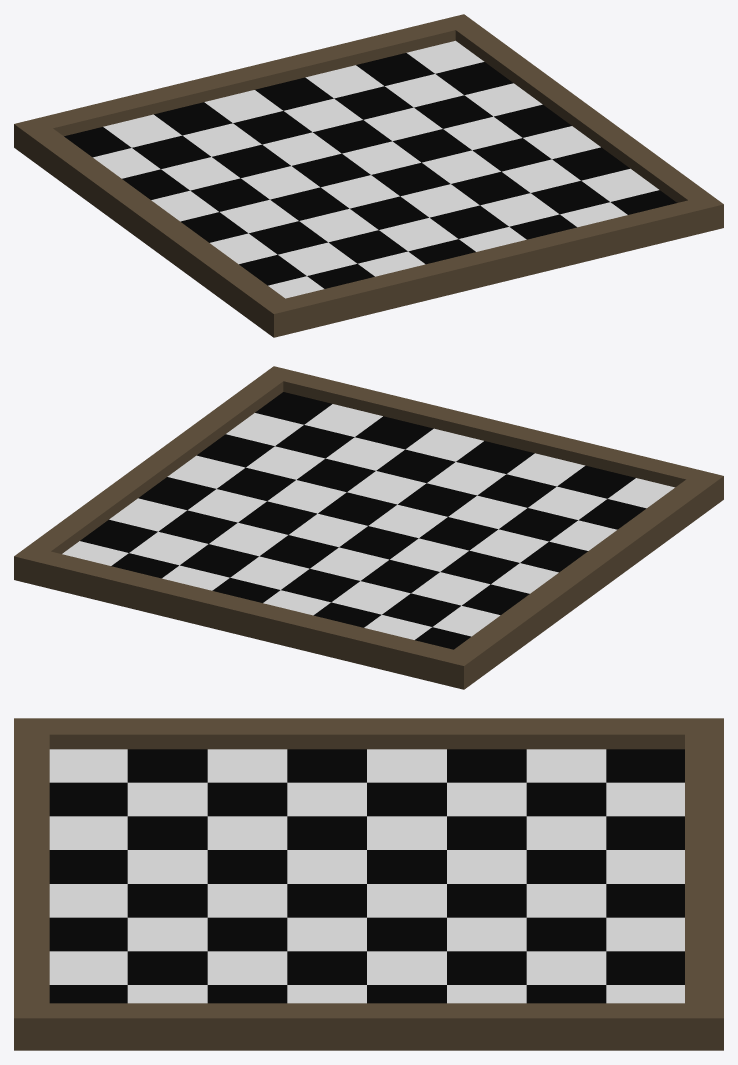
File: chess_board.gltf
The picture shows the model from 3 angles, top to bottom: view 1: azimuth 30°, elevation 25°; view 2: azimuth 150°, elevation 25°; view 3: azimuth 270°, elevation 25°; orthographic projection. The views are drawn at different scales.
Visible parts, largest first — view 1: tiles, simpler_frame; view 2: tiles, simpler_frame; view 3: tiles, simpler_frame.
Part boxes in pixels (x1,y1,x2,y2): tiles: (64, 40, 676, 298); simpler_frame: (14, 14, 723, 337); tiles: (62, 392, 674, 649); simpler_frame: (14, 366, 723, 689); tiles: (49, 749, 684, 1003); simpler_frame: (14, 718, 723, 1050).
Size of the model in its own units: 21.9 by 1.16 by 21.9.
